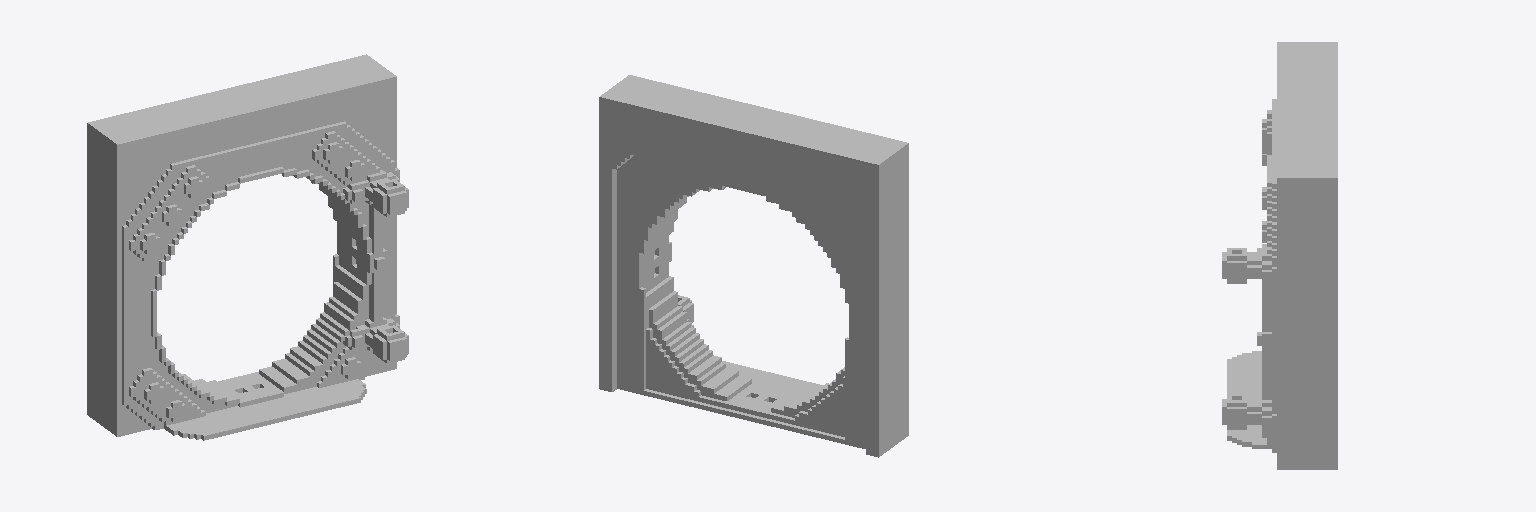
Rendered from HarrisL_TheVault_Heist-2.obj.
3 views of the same model, side by side, from view 1: azimuth 30°, elevation 25°; view 2: azimuth 150°, elevation 25°; view 3: azimuth 270°, elevation 25° (orthographic).
Visible parts, largest first — view 1: HarrisL_TheVault_Heist-2; view 2: HarrisL_TheVault_Heist-2; view 3: HarrisL_TheVault_Heist-2.
Part boxes in pixels (x1,y1,x2,y2): HarrisL_TheVault_Heist-2: (87, 54, 408, 440); HarrisL_TheVault_Heist-2: (599, 75, 908, 457); HarrisL_TheVault_Heist-2: (1222, 42, 1337, 469).
Size of the model in its own units: 64 by 64 by 23.